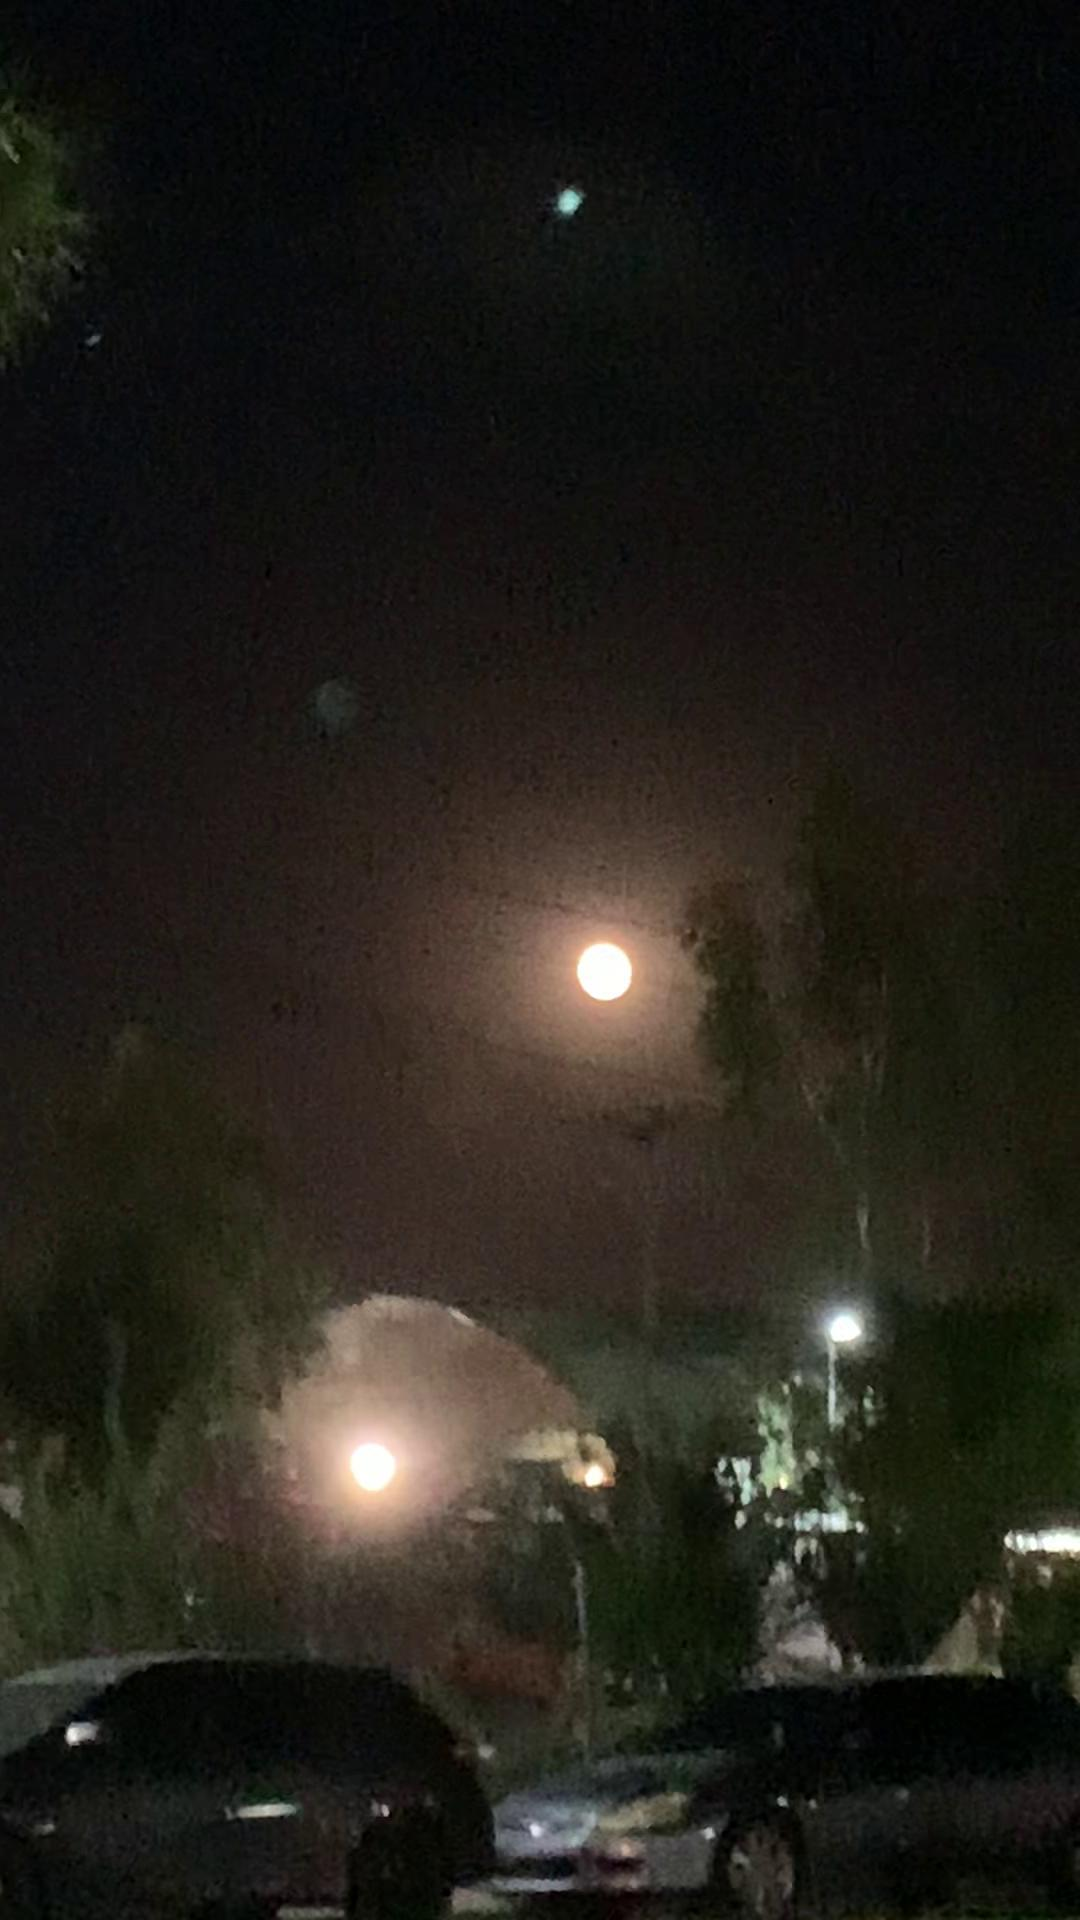moon: (578, 948, 649, 1019)
